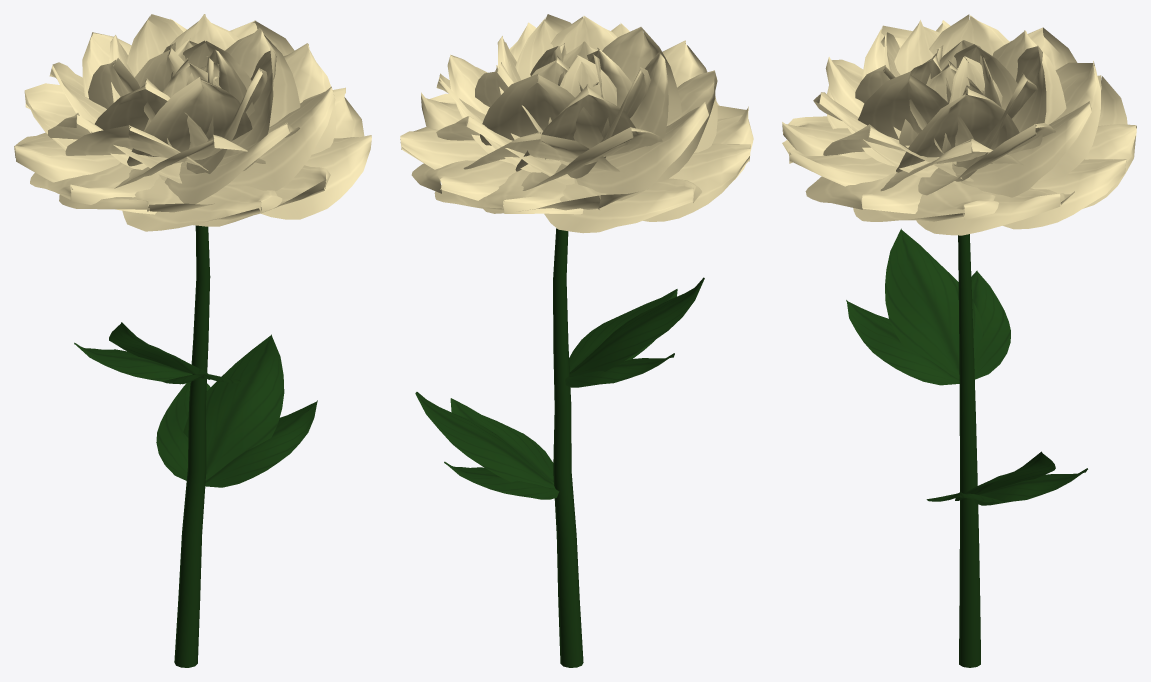
File: cream_peony.glb
The picture shows the model from 3 angles, left to right: view 1: azimuth 30°, elevation 25°; view 2: azimuth 150°, elevation 25°; view 3: azimuth 270°, elevation 25°; orthographic projection.
Parts seen in each view (by area): view 1: Cream_Peony; view 2: Cream_Peony; view 3: Cream_Peony.
Boxes of the visible parts, x1,y1,x2,y2 form: Cream_Peony: [14, 14, 371, 667]; Cream_Peony: [400, 14, 753, 667]; Cream_Peony: [782, 14, 1136, 667].
Size of the model in its own units: 0.1254 by 0.2409 by 0.1254.
Materials: 2 (2 with a texture image).
